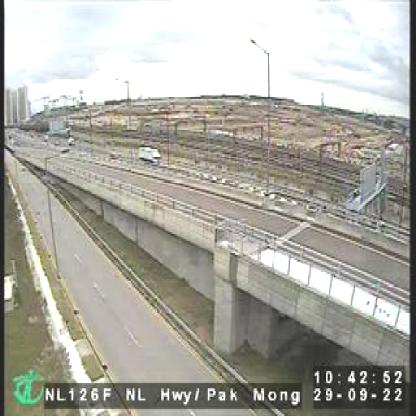Truck: (136, 142, 160, 165)
